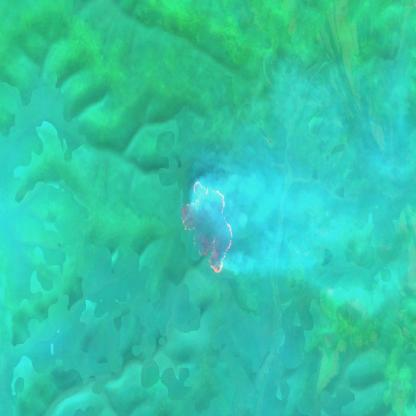fire: (180, 178, 236, 274)
